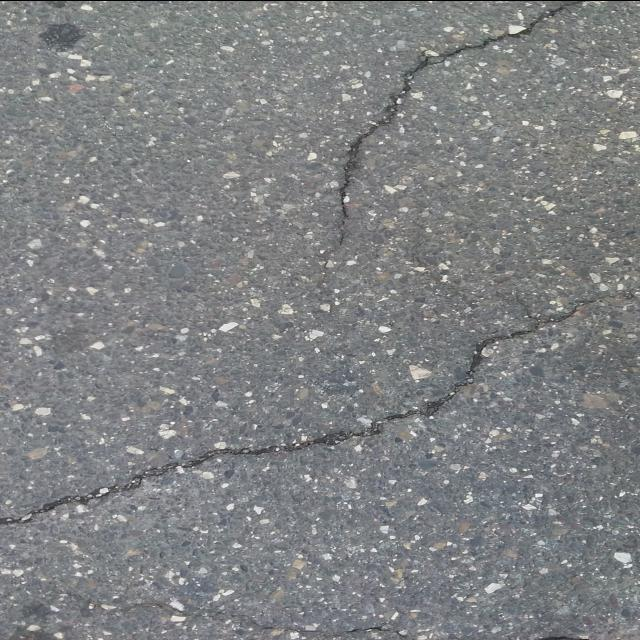Crack: (0, 300, 599, 524), (339, 0, 586, 223), (132, 601, 328, 638), (339, 624, 404, 635), (536, 634, 593, 640)
